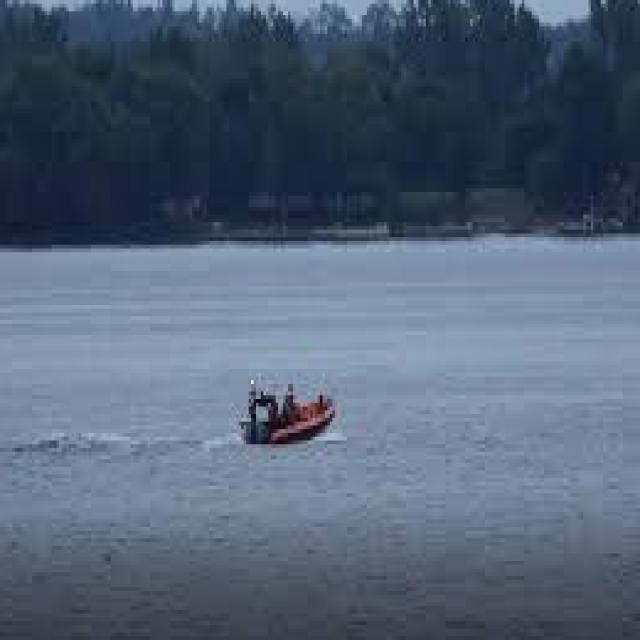houseboat: (240, 371, 336, 442)
